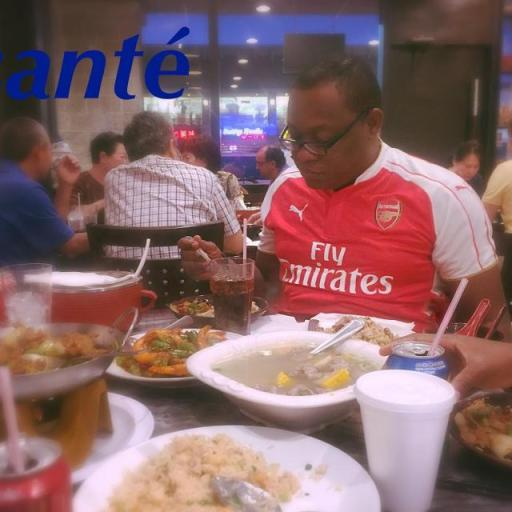Emirates: (276, 242, 394, 300)
